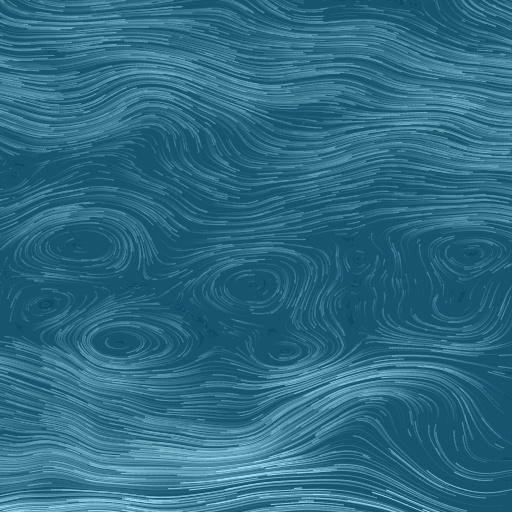eddy: (22, 213, 137, 279), (203, 253, 293, 317), (79, 315, 173, 367), (429, 232, 505, 282), (17, 282, 75, 327), (263, 334, 308, 366)
